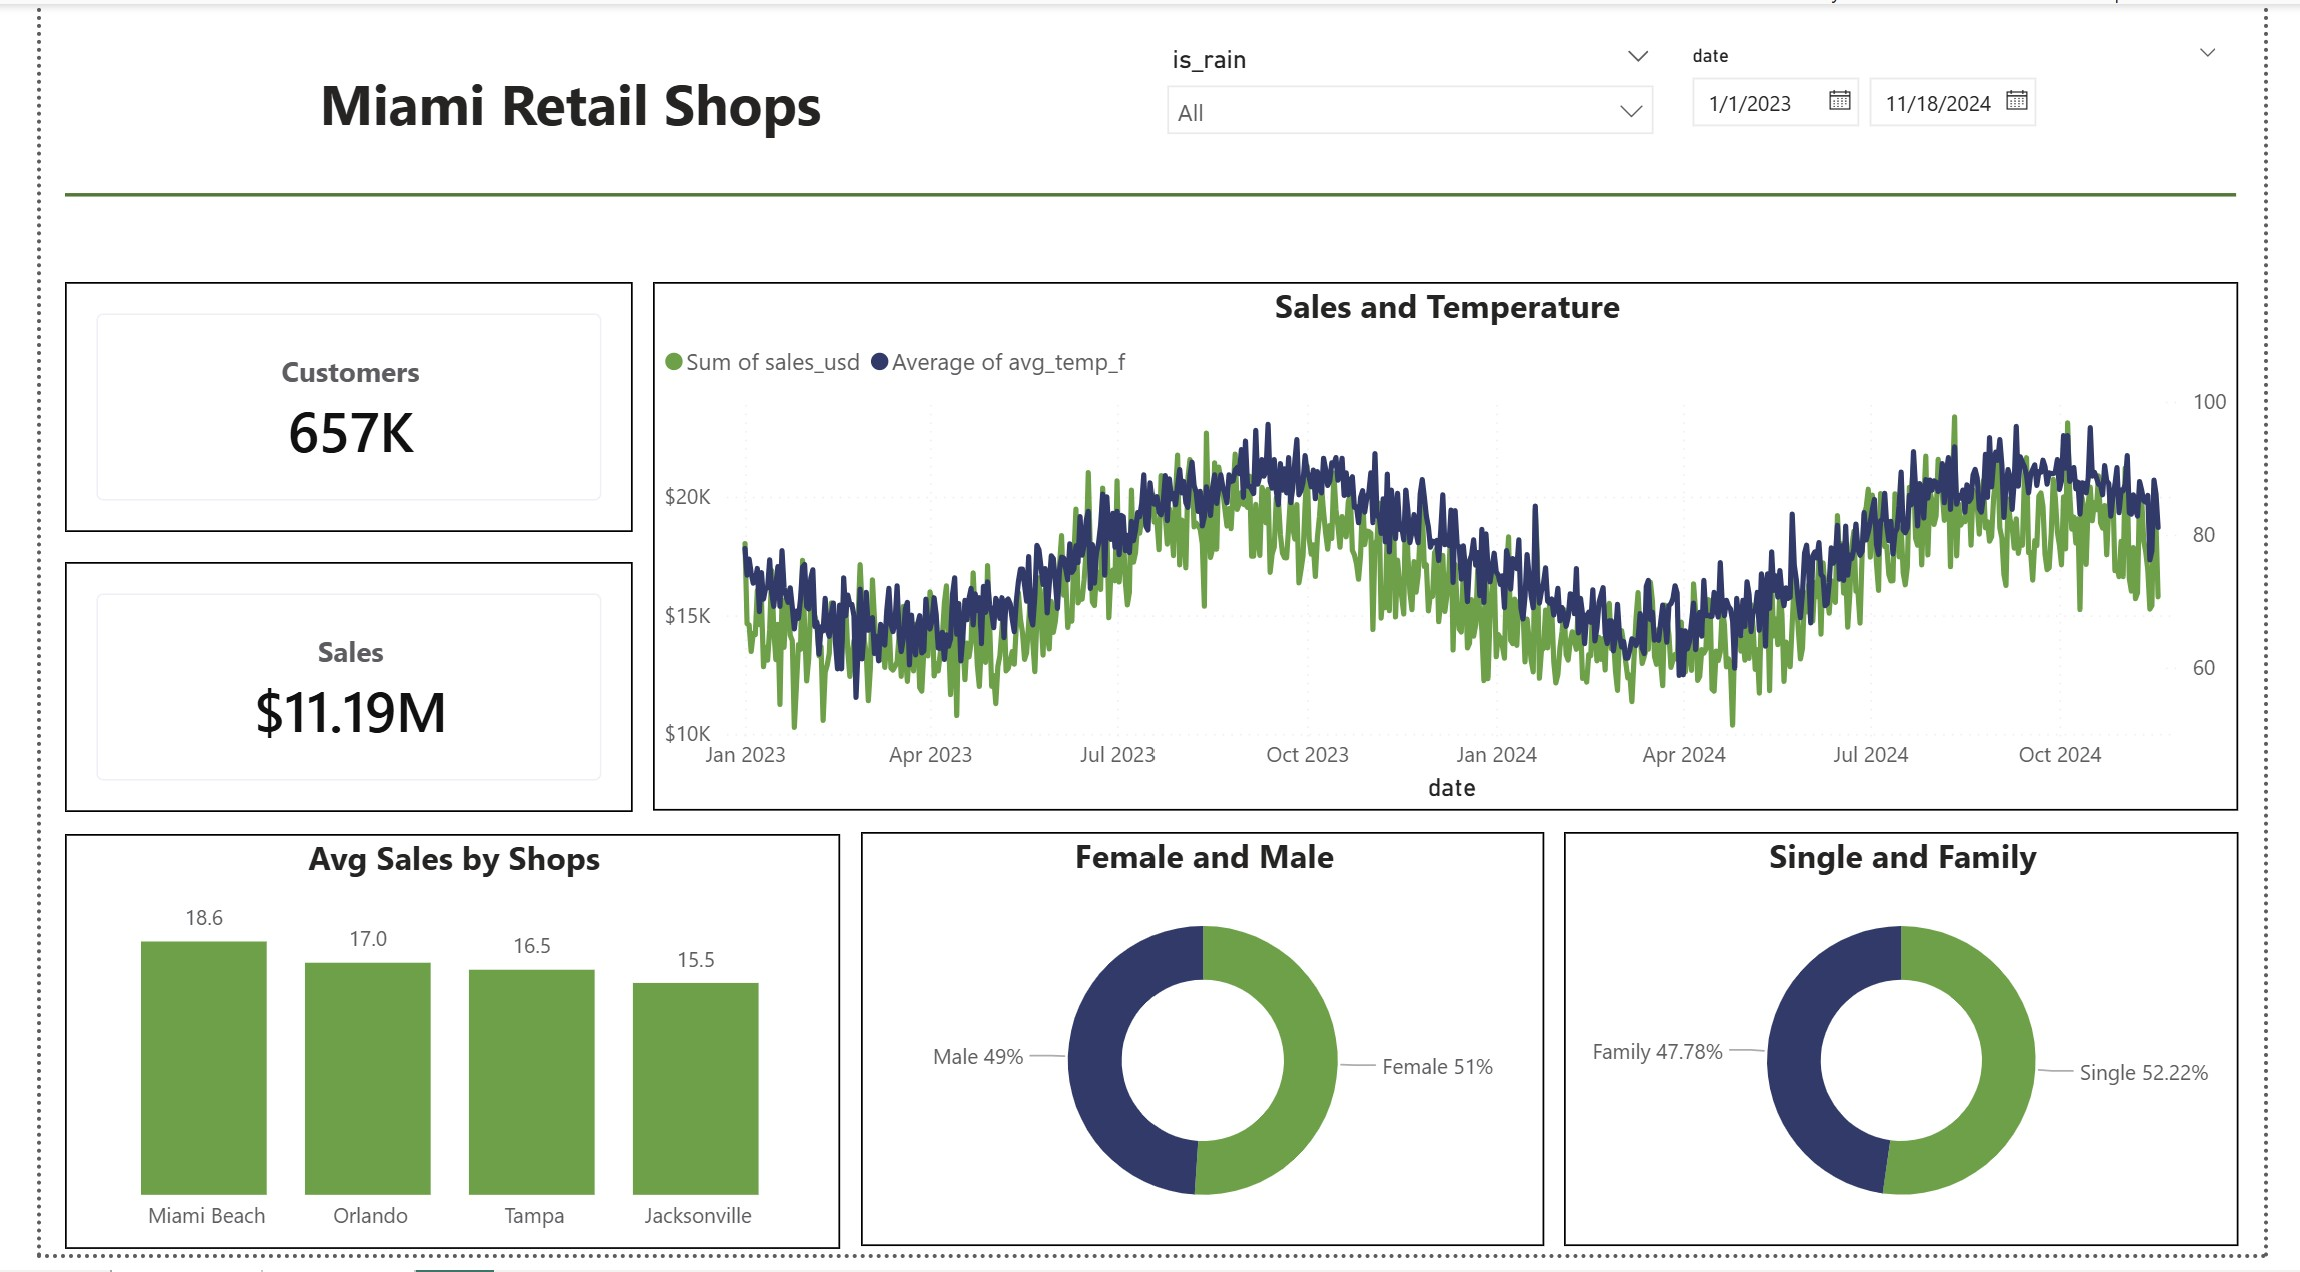

The dashboard page shown, as its layout file describes it:
{"tool":"powerbi","page":{"name":"Page 1","canvas":[1280,720],"ordinal":0},"visuals":[{"type":"lineChart","title":"Sales and Temperature","fields":{"Category":["table_joined.date"],"Y":["Sum(table_joined.sales_usd)"],"Y2":["Avg(table_joined.avg_temp_f)"]},"box":[352.6,160.6,912.4,304.6],"z":0},{"type":"clusteredColumnChart","title":"Avg Sales by Shops","fields":{"Category":["table_joined.shop_name"],"Y":["Avg(table_joined.sales_per_customer)"]},"box":[14,477.7,446.4,238.8],"z":1000},{"type":"donutChart","fields":{"Y":["Avg(table_joined.pct_female)","Avg(table_joined.pct_male)"]},"box":[472.7,477.2,393.2,238.6],"z":2000},{"type":"donutChart","fields":{"Y":["Avg(table_joined.pct_single)","Avg(table_joined.pct_family)"]},"box":[876.3,477.2,388.7,238.6],"z":3000},{"type":"cardVisual","fields":{"Data":["Sum(table_joined.customers)"]},"box":[13.5,160.6,327.1,144.1],"z":4000},{"type":"cardVisual","fields":{"Data":["Sum(table_joined.sales_usd)"]},"box":[13.5,321.1,327.1,144.1],"z":5000},{"type":"shape","box":[13.5,81,1250,58.5],"z":6000},{"type":"textbox","box":[13.5,30,582.2,72],"z":7000},{"type":"slicer","fields":{"Values":["table_joined.date"]},"box":[937.9,18,327.1,84],"z":8000},{"type":"slicer","fields":{"Values":["table_joined.is_rain"]},"box":[637.7,18,300.1,84],"z":9000}]}

Visuals, with their boxes in screenshot pixels (x1, y1, x2, y2), scaled from the page's 1280x720 canvas onto the 2300x1272 screenshot:
"Sales and Temperature" lineChart: {"x1": 634, "y1": 284, "x2": 2273, "y2": 822}
"Avg Sales by Shops" clusteredColumnChart: {"x1": 25, "y1": 844, "x2": 827, "y2": 1266}
donutChart - Avg(table_joined.pct_female) x Avg(table_joined.pct_male): {"x1": 849, "y1": 843, "x2": 1556, "y2": 1265}
donutChart - Avg(table_joined.pct_single) x Avg(table_joined.pct_family): {"x1": 1575, "y1": 843, "x2": 2273, "y2": 1265}
cardVisual - Sum(table_joined.customers): {"x1": 24, "y1": 284, "x2": 612, "y2": 538}
cardVisual - Sum(table_joined.sales_usd): {"x1": 24, "y1": 567, "x2": 612, "y2": 822}
shape: {"x1": 24, "y1": 143, "x2": 2270, "y2": 246}
textbox: {"x1": 24, "y1": 53, "x2": 1070, "y2": 180}
slicer - table_joined.date: {"x1": 1685, "y1": 32, "x2": 2273, "y2": 180}
slicer - table_joined.is_rain: {"x1": 1146, "y1": 32, "x2": 1685, "y2": 180}
